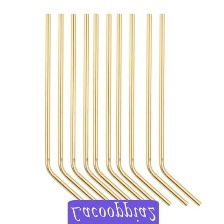drinking_straw: (152, 11, 204, 209)
